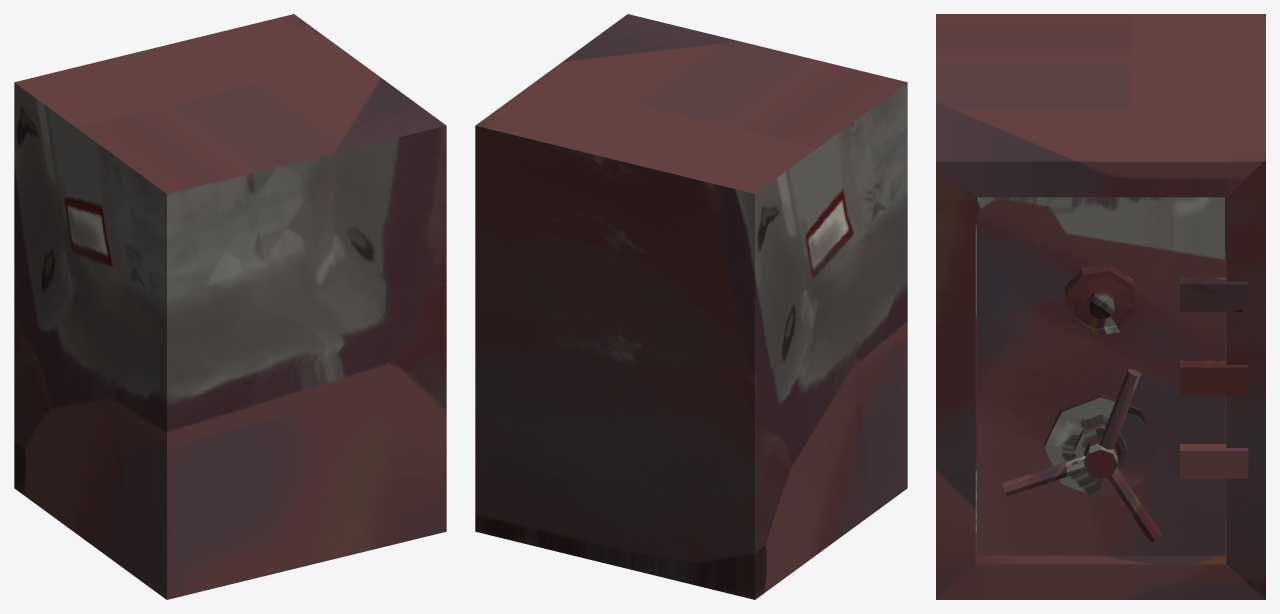
Rendered from locked safe.fbx.
3 views of the same model, side by side, from view 1: azimuth 30°, elevation 25°; view 2: azimuth 150°, elevation 25°; view 3: azimuth 270°, elevation 25° (orthographic). The views are drawn at different scales.
Parts seen in each view (by area): view 1: locked safe; view 2: locked safe; view 3: locked safe.
Part boxes in pixels (x1=…): locked safe: x1=14, y1=14, x2=446, y2=599; locked safe: x1=475, y1=14, x2=907, y2=599; locked safe: x1=936, y1=14, x2=1265, y2=599.
Bounding box in the file's own units: 239 × 294 × 200.
